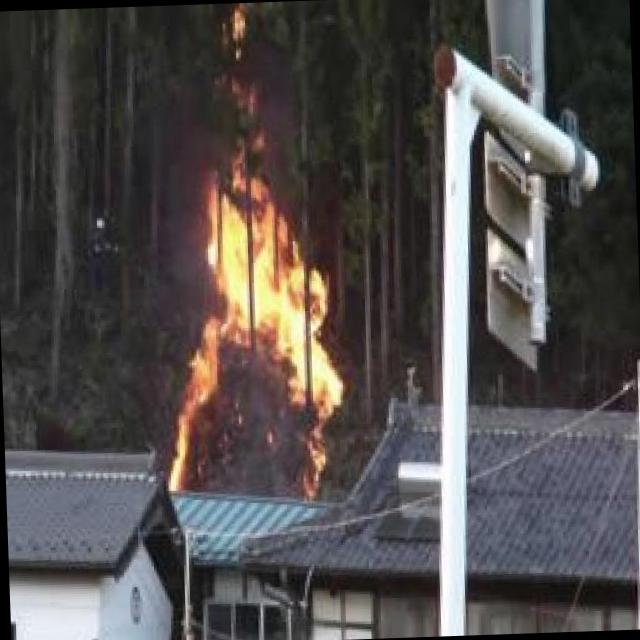Fire: (159, 77, 335, 496)
